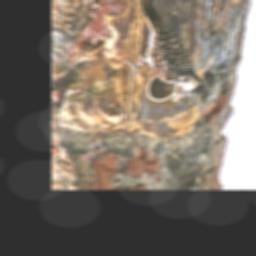Woodpecker: (125, 0, 205, 100)
